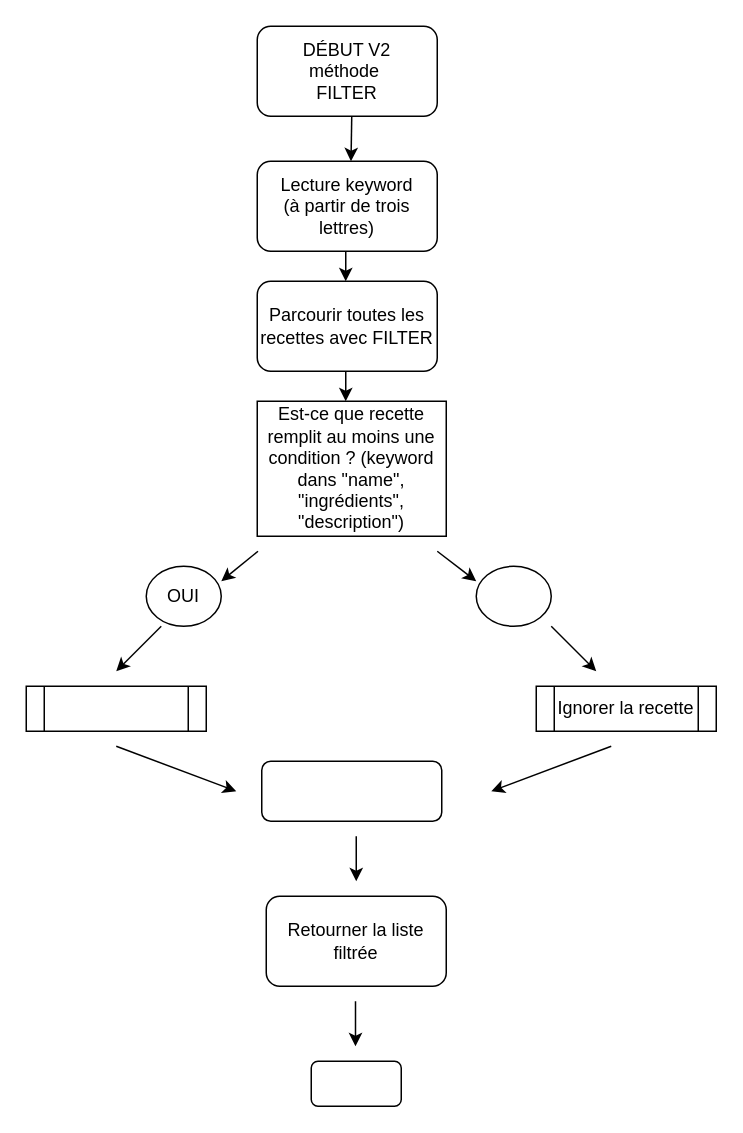
The diagram is 743 pixels wide and 1133 high, and some of its shapes have lost their labels. The shapes that lost their labels are listed below. From the top down, each one's centre as x and y in pixels, then its label:
At (x=513, y=595): "NON".
At (x=115, y=708): "Conserver la recette".
At (x=351, y=790): "Recette suivante".
At (x=355, y=1083): "FIN".
